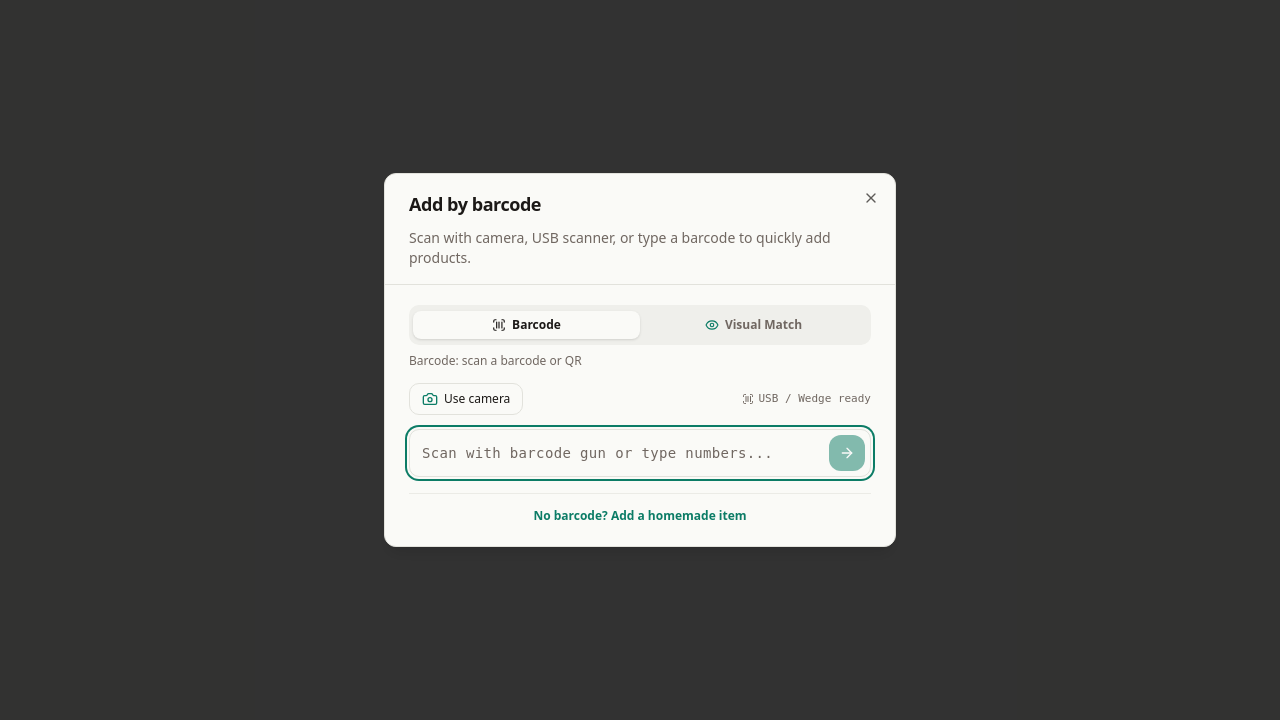
Test case: U1: Unified Add by Barcode Flow and BarcodeCapture › AddByBarcodeDialog Component › state f: homemade item generates internal barcode and offers print labels after save
Note: Click link "No barcode? Add a homemade item"
Click the button "No barcode? Add a homemade item": (640,516) x1=533 y1=508 x2=747 y2=524
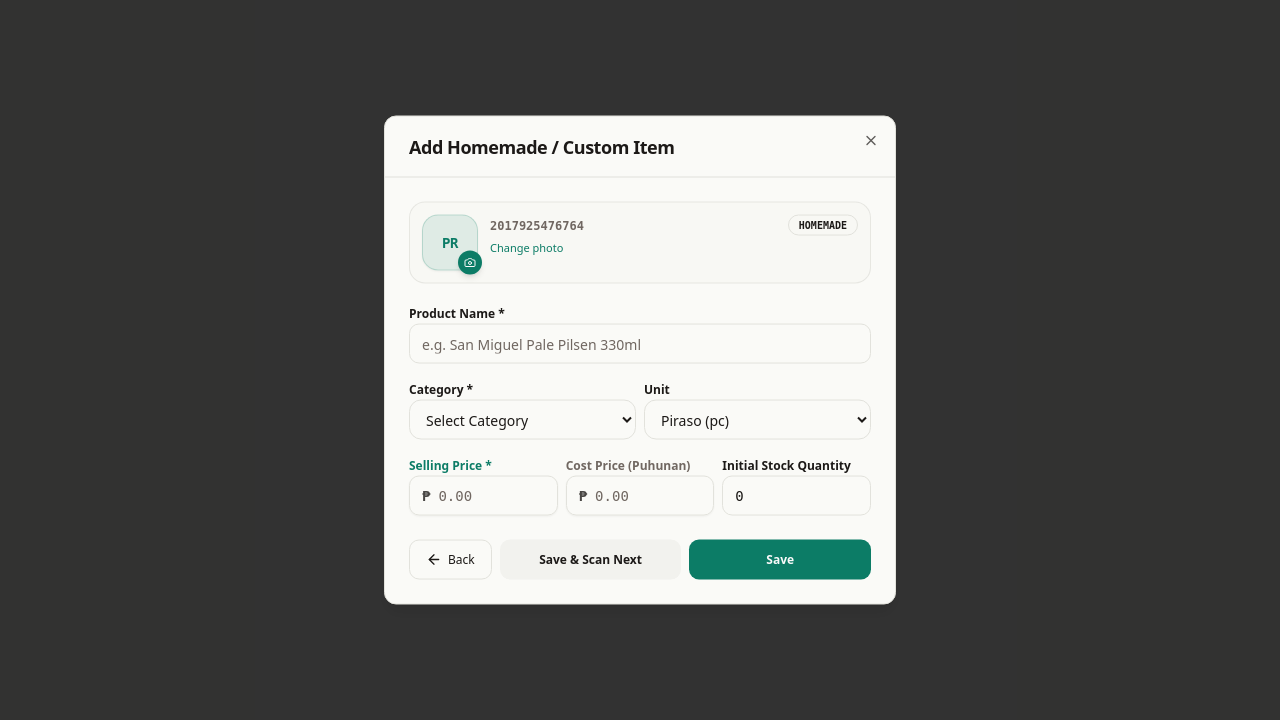
Expected: the heading "Add Homemade / Custom Item" is shown, x1=409 y1=134 x2=674 y2=158
Note: Fill in details
In the field labelled "Product Name *": (640,344) x1=409 y1=324 x2=871 y2=364, type "Ice Candy Buko Pandan"
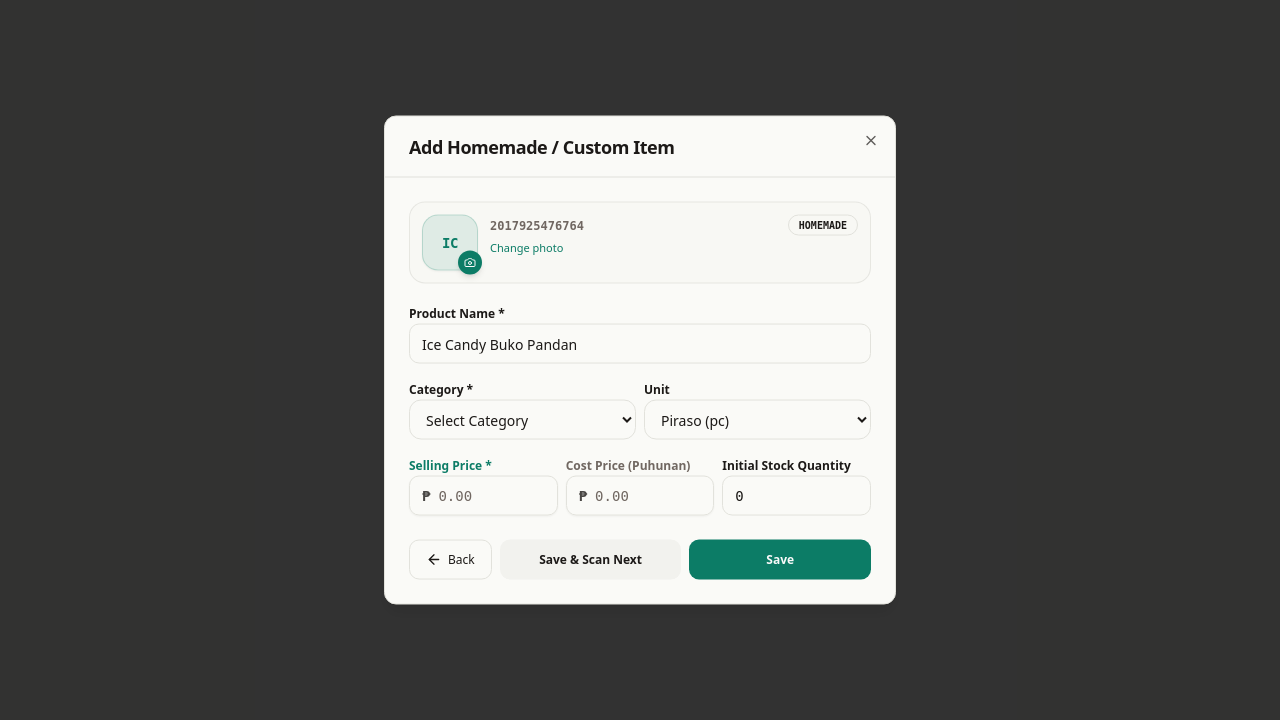
In the field labelled "Selling Price *": (494,496) x1=430 y1=476 x2=557 y2=516, type "15.00"
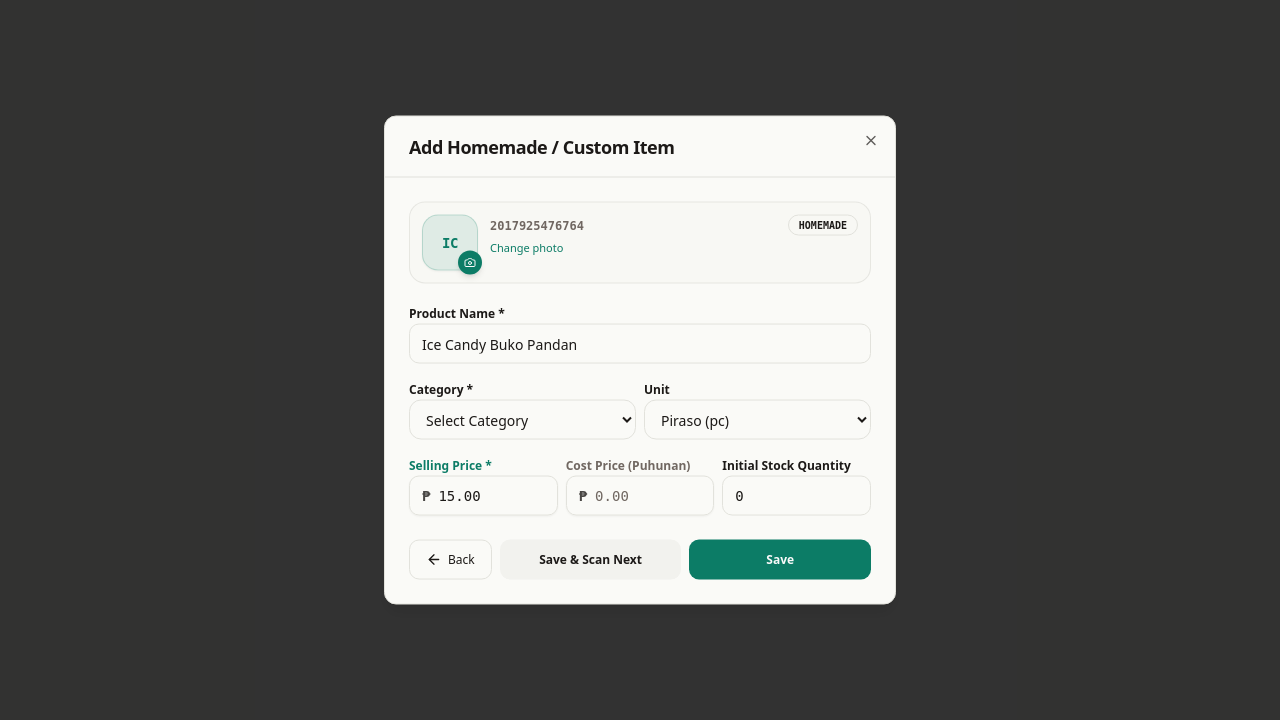
Note: Explicitly select category (no silent fallback)
Select "Canned Goods" in the dropdown labelled "Category *": (522,420) x1=409 y1=400 x2=636 y2=440
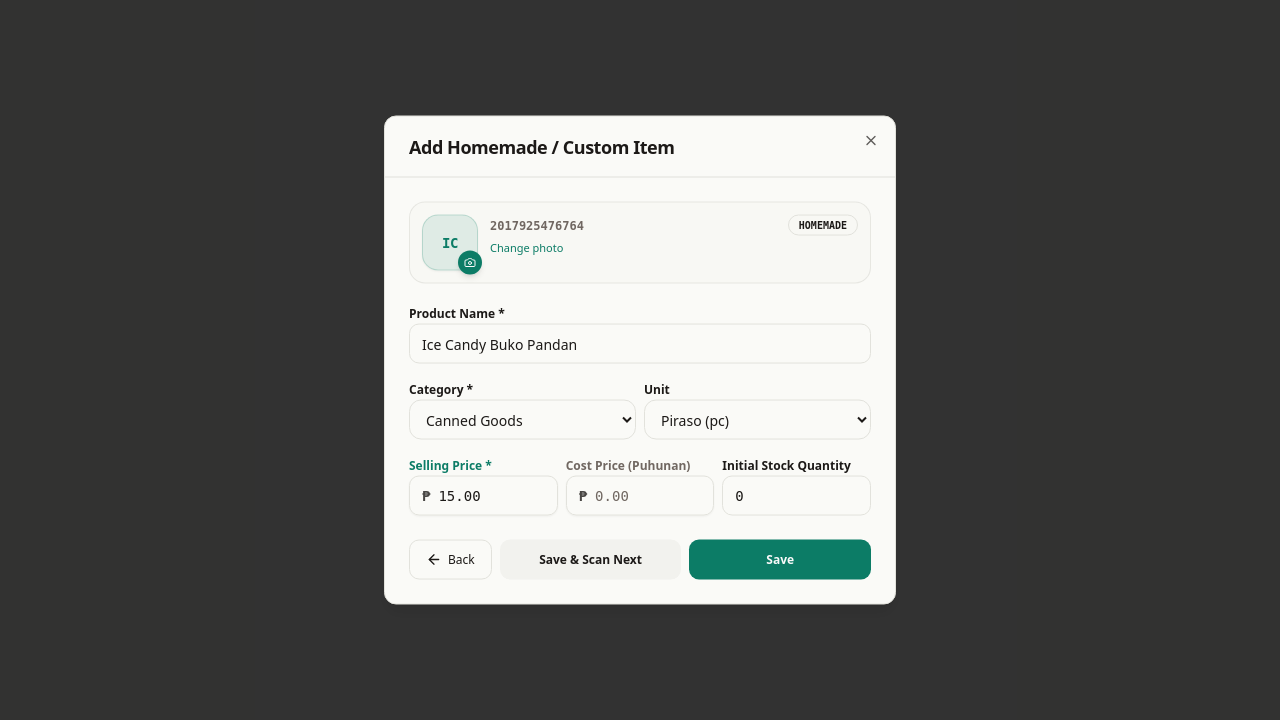
Click the button "Save": (780,560) x1=689 y1=540 x2=871 y2=580
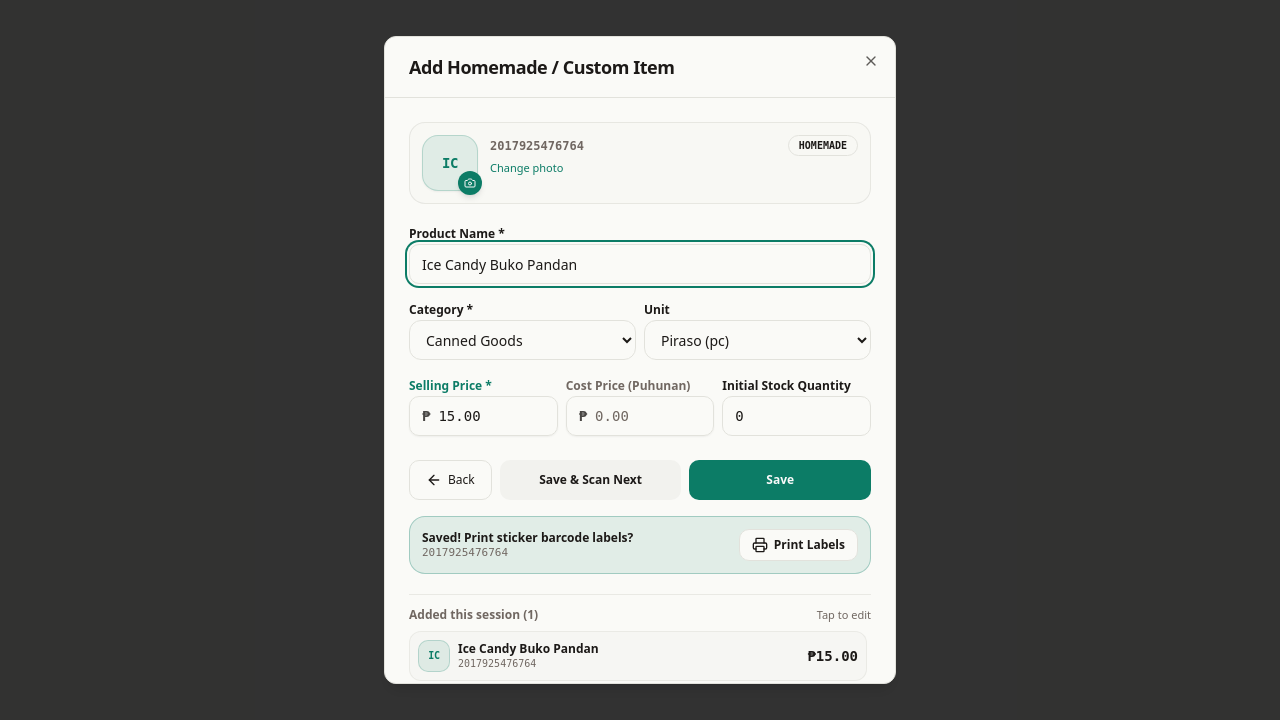
Expected: the button "Print Labels" is shown, x1=739 y1=529 x2=858 y2=561
